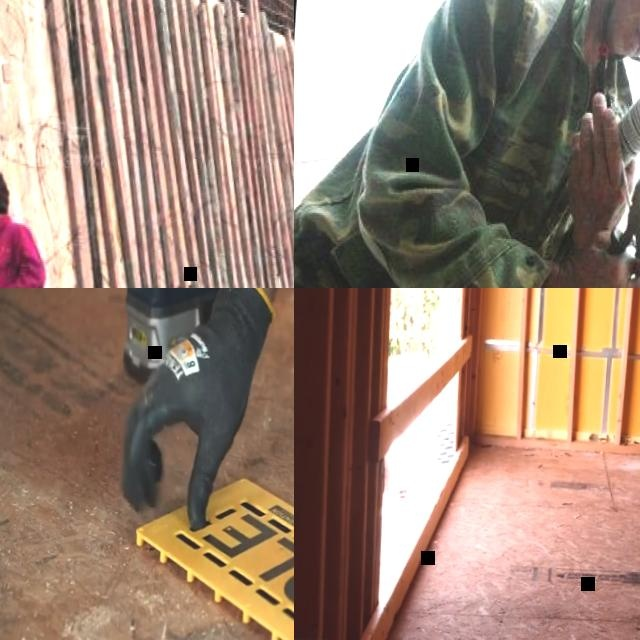NO-Hardhat: (0, 167, 11, 218)
NO-Mask: (610, 0, 640, 57)
NO-Safety Vest: (323, 0, 633, 288), (0, 226, 43, 288)
Person: (294, 0, 640, 288), (107, 288, 294, 640), (0, 163, 52, 288)
